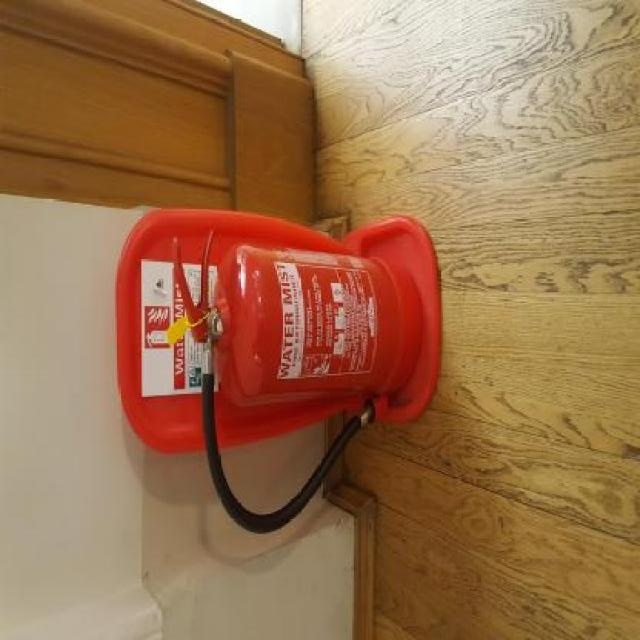fire extinguisher: (170, 231, 422, 537)
